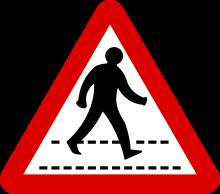Pedestrian Crossing: (10, 11, 208, 186)
